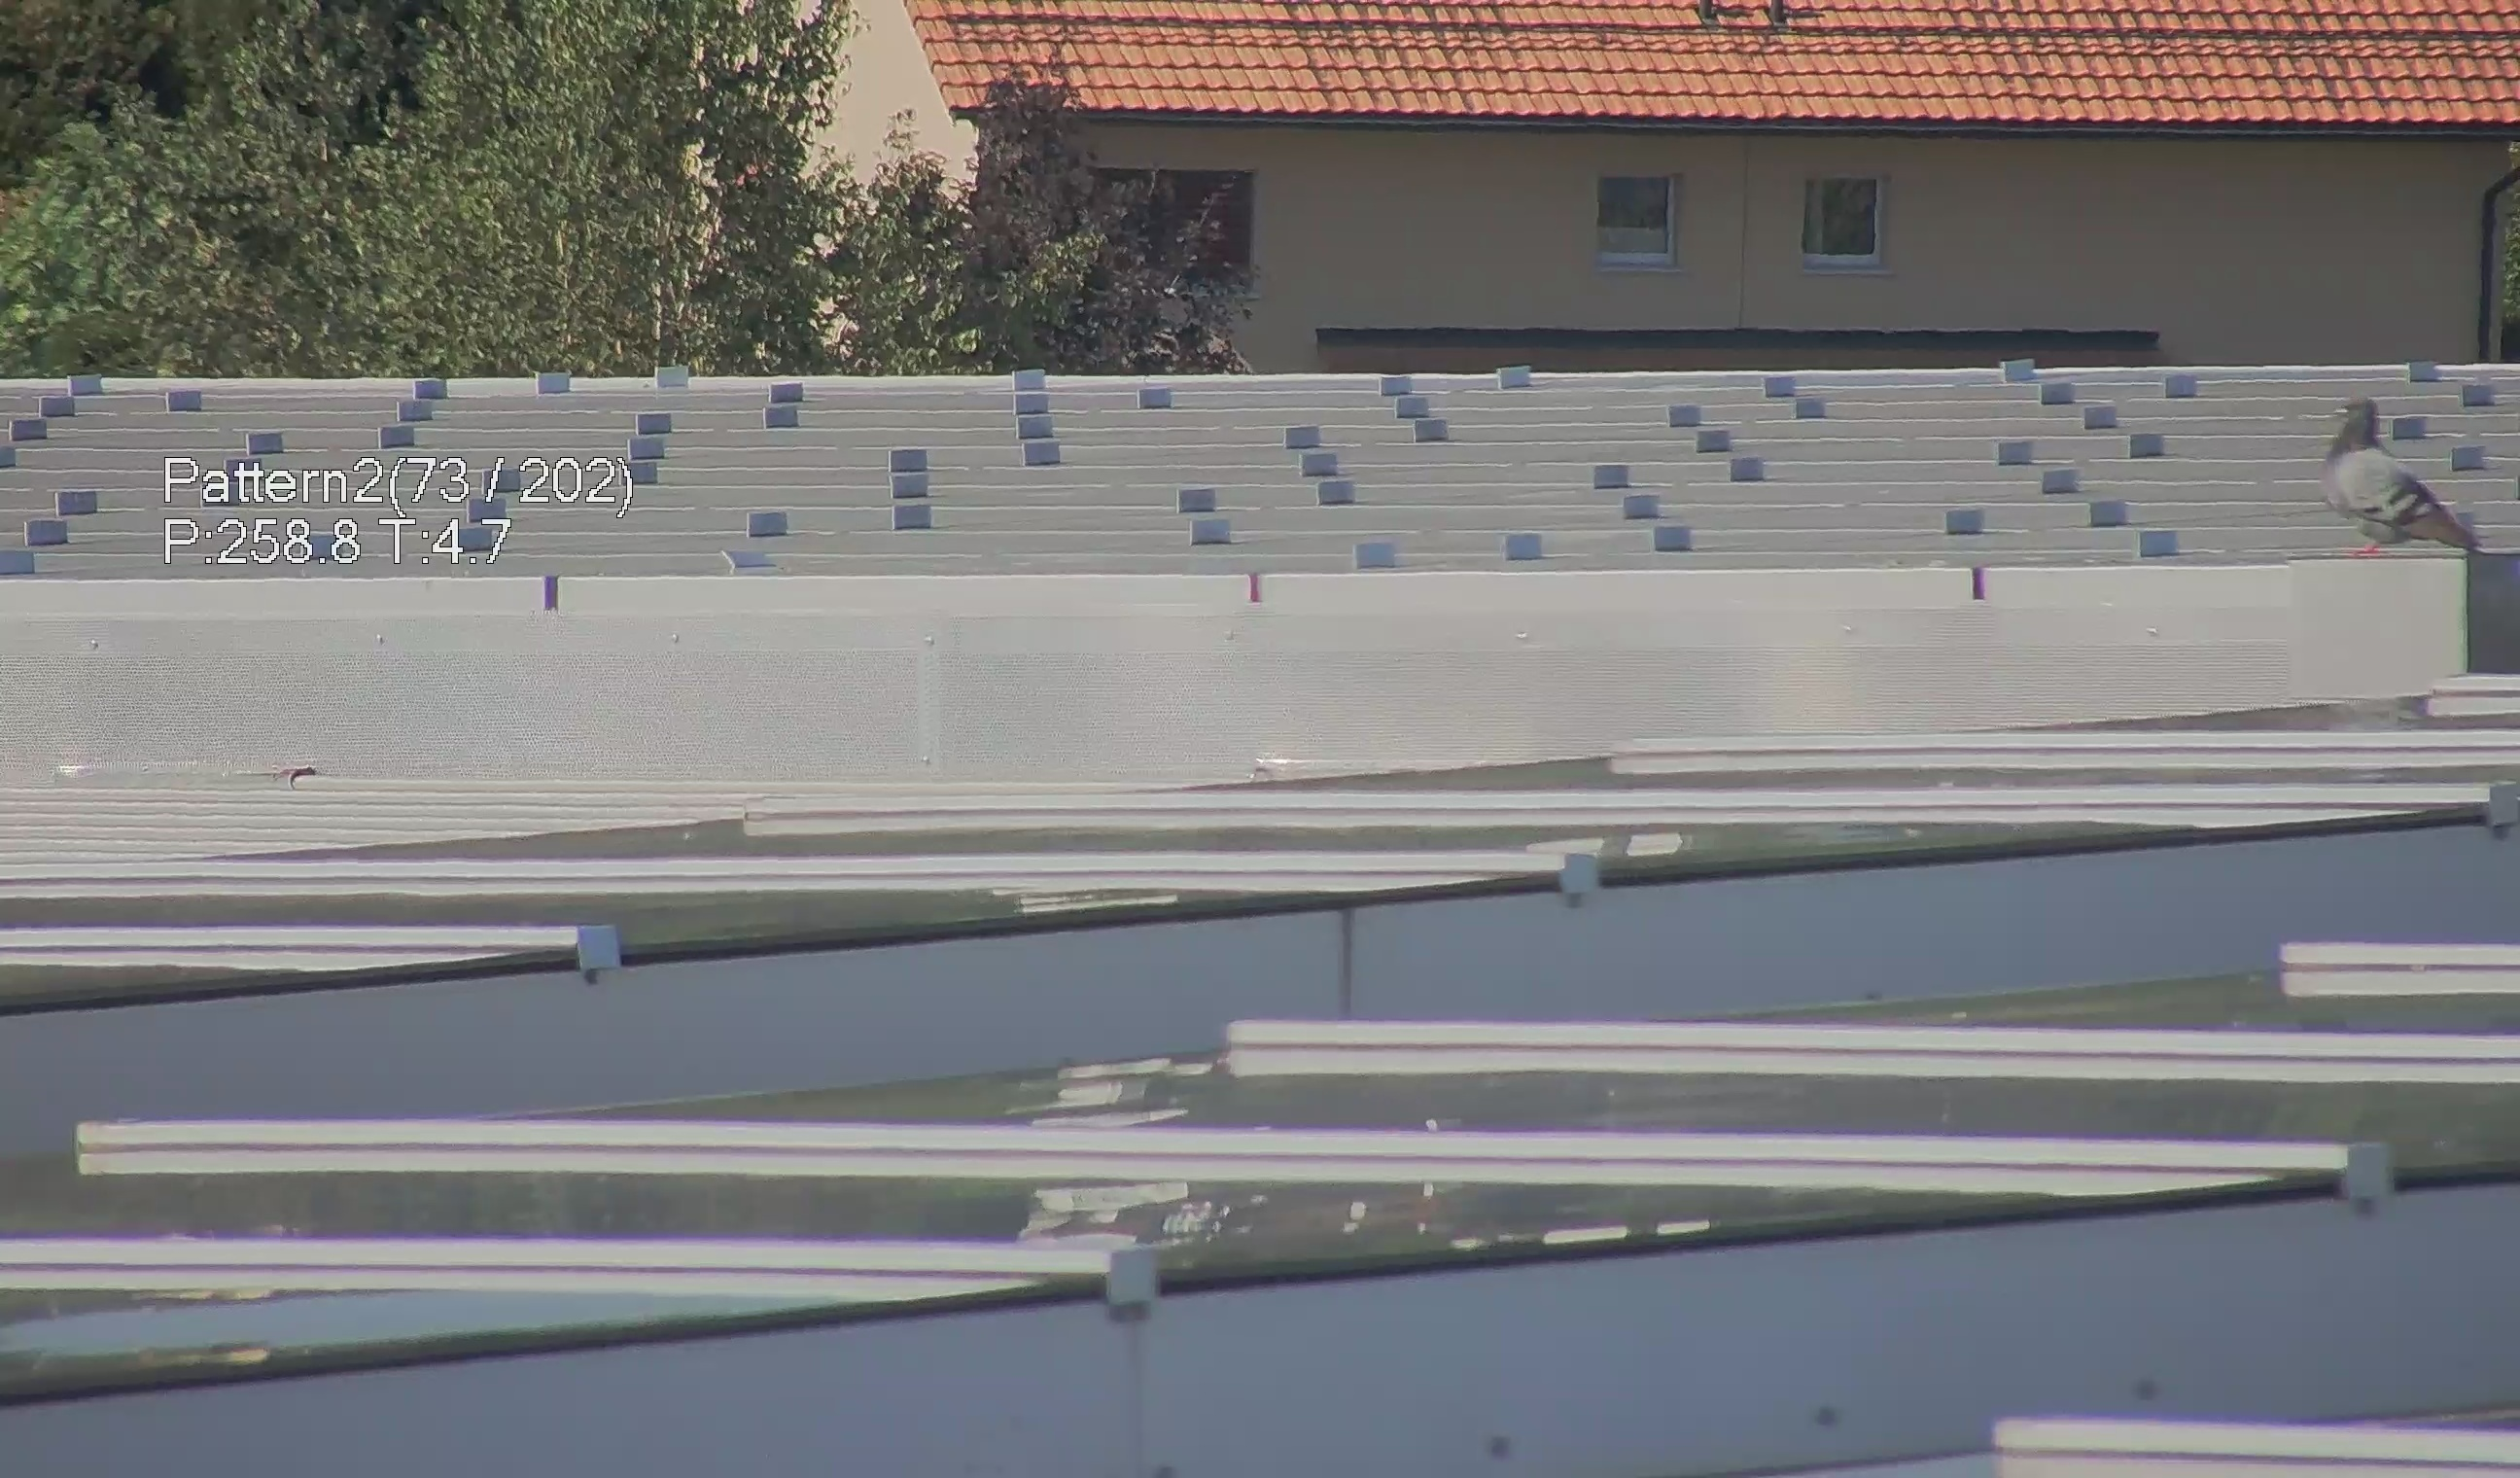Pigeon: (2320, 385, 2494, 577)
